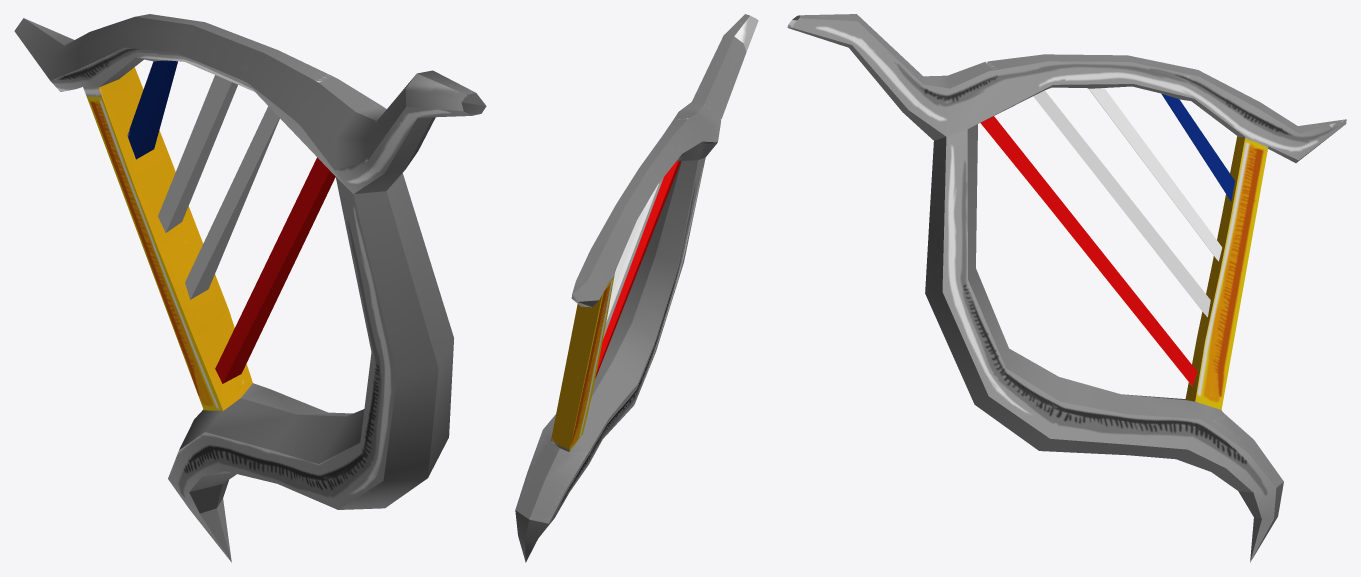
File: Arpa1_000020.obj
The picture shows the model from 3 angles, left to right: view 1: azimuth 30°, elevation 25°; view 2: azimuth 150°, elevation 25°; view 3: azimuth 270°, elevation 25°; orthographic projection. The views are drawn at different scales.
Parts seen in each view (by area): view 1: a1_pCube7.001; view 2: a1_pCube7.001; view 3: a1_pCube7.001.
Boxes of the visible parts, x1,y1,x2,y2 form: a1_pCube7.001: (14,14,486,562); a1_pCube7.001: (515,14,758,562); a1_pCube7.001: (787,14,1346,562).
Bounding box in the file's own units: 2.45 × 8.41 × 8.16.
